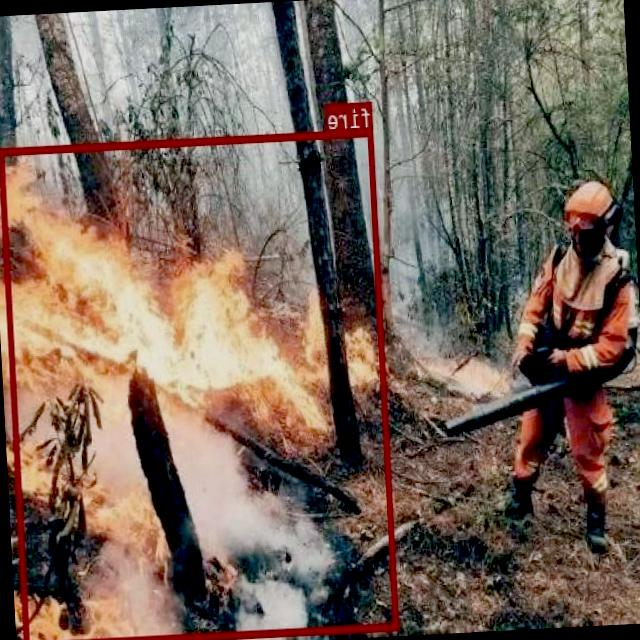fire: (0, 127, 401, 640)
